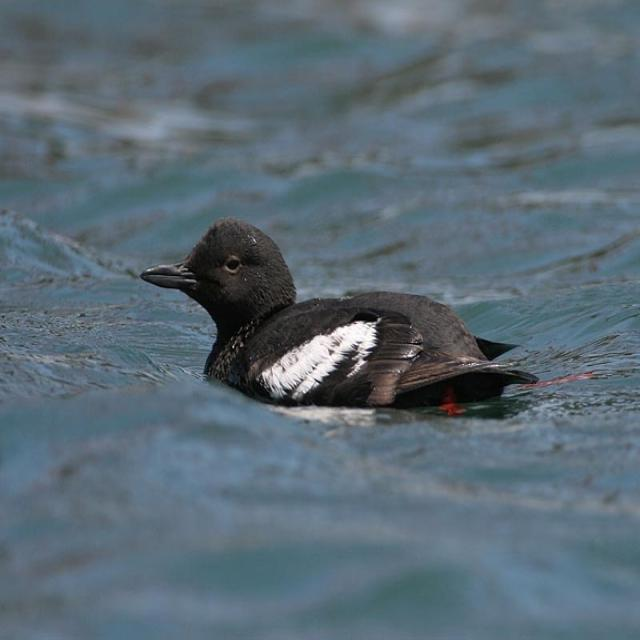bird: (138, 223, 547, 420)
